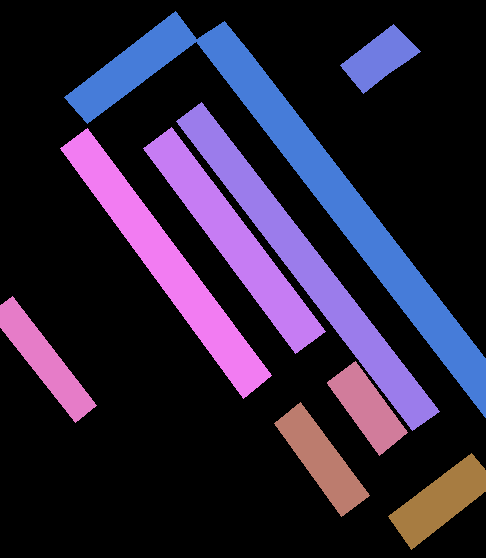parkingspot: (195, 21, 486, 419), (176, 102, 439, 430), (60, 128, 271, 398), (143, 127, 325, 353), (64, 11, 197, 123), (0, 296, 96, 422), (274, 402, 369, 516), (388, 453, 486, 549), (327, 361, 407, 455), (340, 24, 420, 93)
